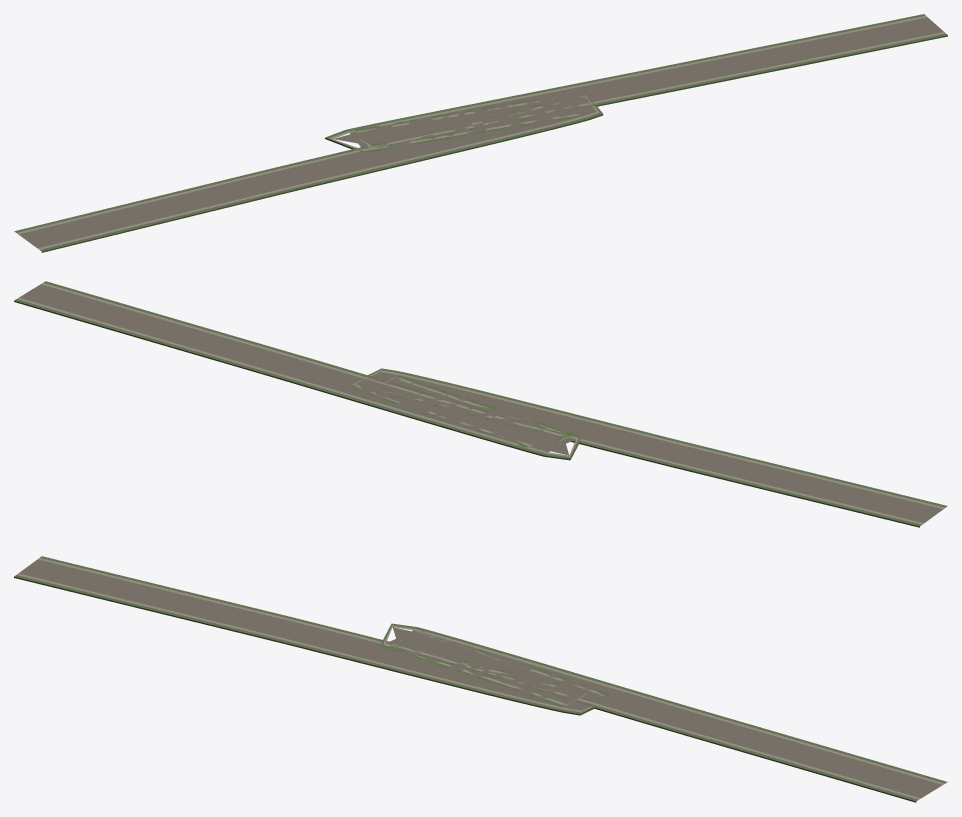
File: road_roam_to_ridge_gp.glb
3 renders of one model, top to bottom at view 1: azimuth 30°, elevation 25°; view 2: azimuth 150°, elevation 25°; view 3: azimuth 330°, elevation 25°, orthographic.
Visible parts, largest first — view 1: road; view 2: road; view 3: road.
Part boxes in pixels (<box>): road: <box>14,14,947,252</box>; road: <box>14,281,947,527</box>; road: <box>14,556,947,802</box>.
Size of the model in its own units: 226 by 0.32 by 23.18.
